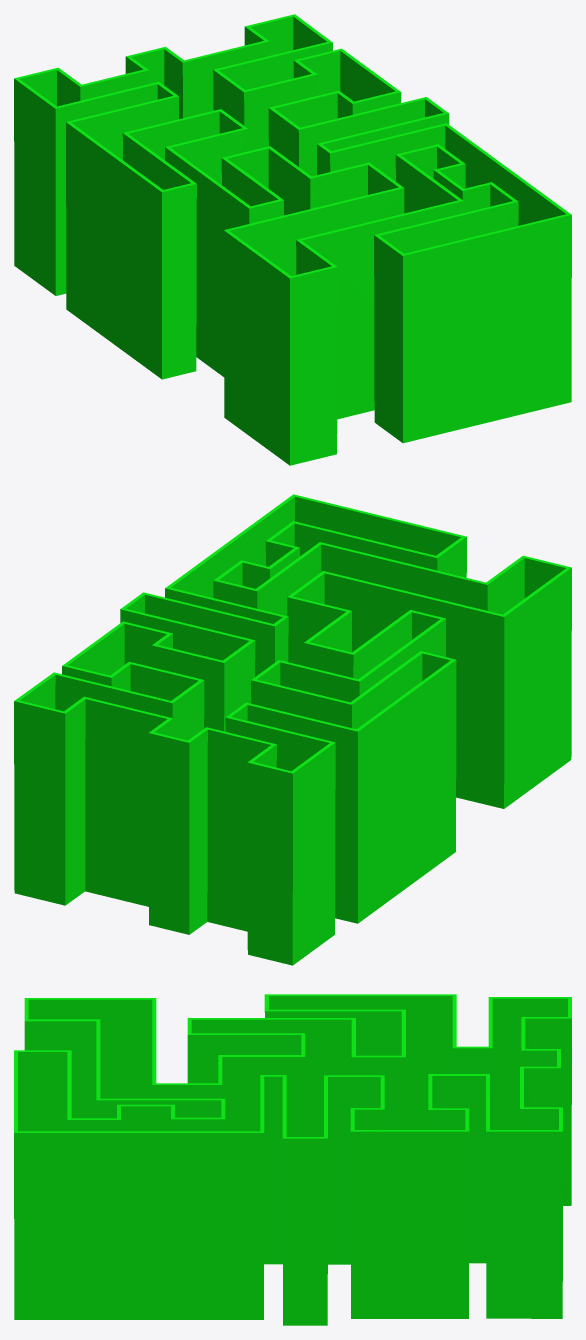
File: laberinto.fbx
3 views of the same model, one above another, from view 1: azimuth 30°, elevation 25°; view 2: azimuth 150°, elevation 25°; view 3: azimuth 270°, elevation 25° (orthographic). The views are drawn at different scales.
Visible parts, largest first — view 1: Line003; view 2: Line003; view 3: Line003.
Boxes of the visible parts, left/top/right/bottom form: Line003: left=14, top=14, right=571, bottom=465; Line003: left=14, top=494, right=571, bottom=965; Line003: left=14, top=994, right=571, bottom=1325.
Bounding box in the file's own units: 136 × 82.64 × 222.
